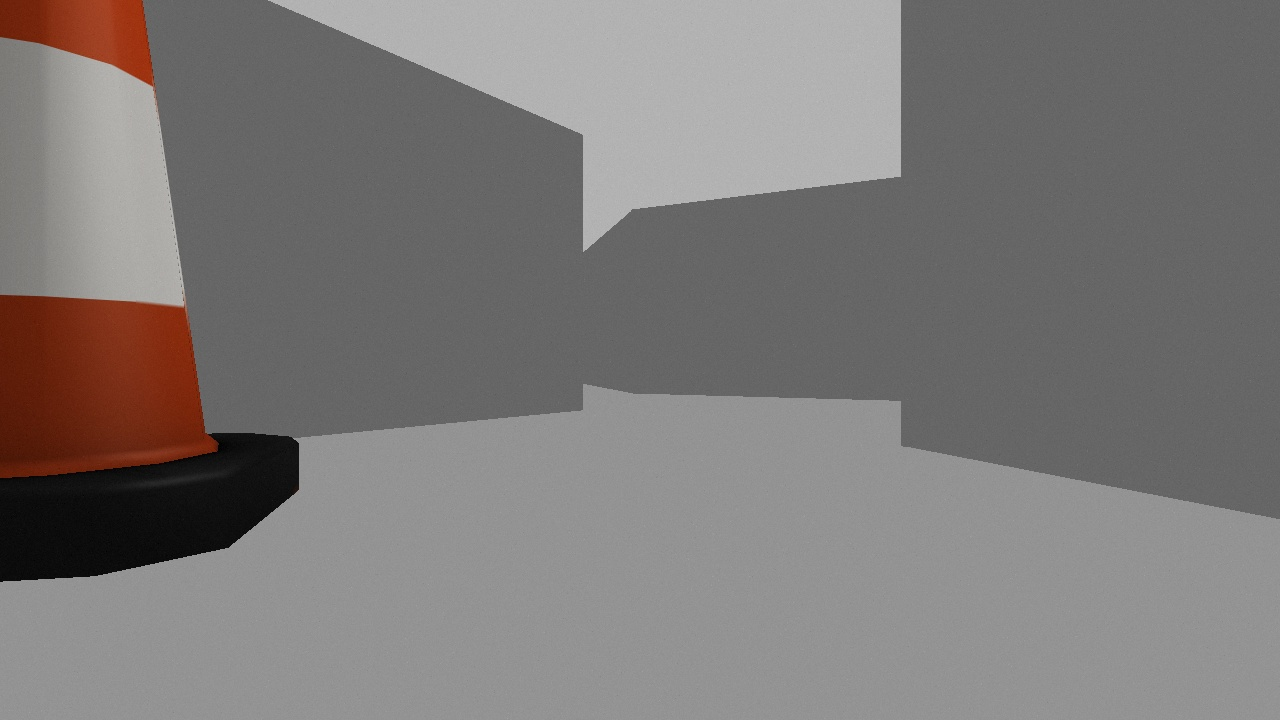barricade: (1, 1, 300, 582)
